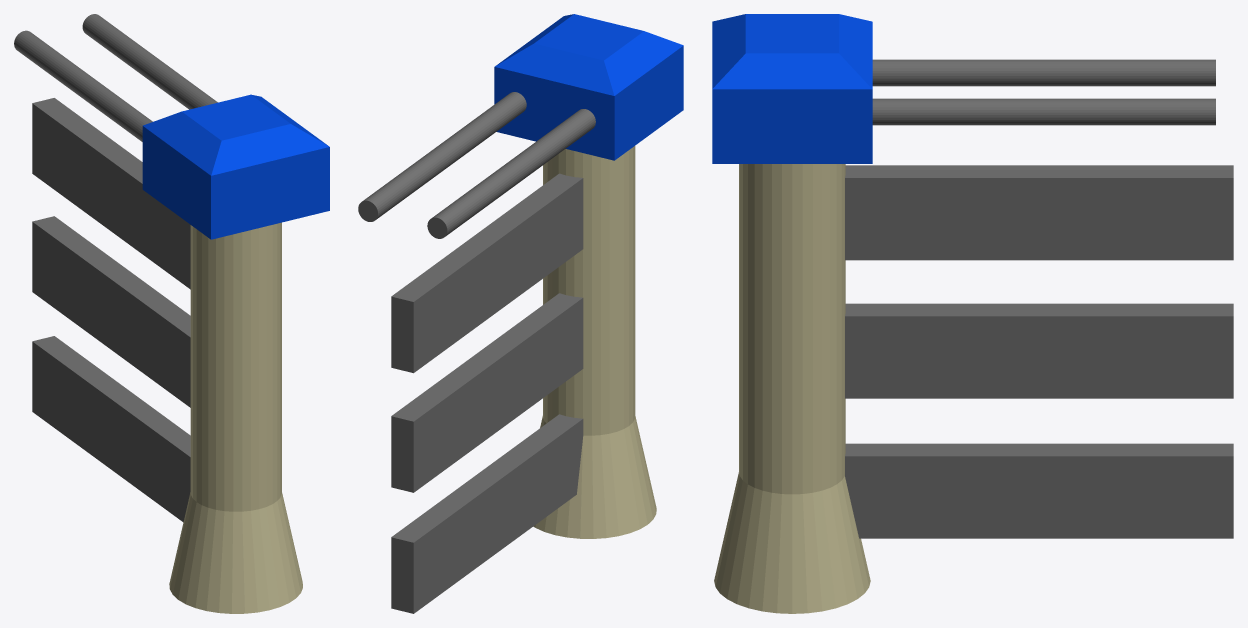
The model's file is Torres 3 Barrera.fbx.
The picture shows the model from 3 angles, left to right: view 1: azimuth 30°, elevation 25°; view 2: azimuth 150°, elevation 25°; view 3: azimuth 270°, elevation 25°; orthographic projection. The views are drawn at different scales.
Parts seen in each view (by area): view 1: Cylinder.001, Cube, Cube.010, Cube.011, Cube.009, Cylinder.006, Cylinder.015, Cylinder.013, Cylinder.016, Cylinder.012, Cylinder.014, Cylinder.010; view 2: Cube, Cylinder.001, Cube.009, Cube.010, Cube.011, Cylinder.006, Cylinder.013, Cylinder.016, Cylinder.015, Cylinder.012, Cylinder.010, Cylinder.014; view 3: Cube.009, Cube.010, Cube.011, Cylinder.001, Cube, Cylinder.006, Cylinder.012, Cylinder.015, Cylinder.016, Cylinder.013, Cylinder.010, Cylinder.014.
Part boxes in pixels (x1,y1,x2,y2): Cylinder.001: [190, 222, 281, 511]; Cube: [142, 94, 329, 239]; Cube.010: [32, 216, 190, 407]; Cube.011: [32, 336, 190, 522]; Cube.009: [32, 98, 190, 289]; Cylinder.006: [169, 492, 302, 613]; Cylinder.015: [64, 67, 130, 123]; Cylinder.013: [82, 14, 148, 70]; Cylinder.016: [14, 30, 79, 87]; Cylinder.012: [133, 51, 198, 107]; Cylinder.014: [115, 105, 152, 141]; Cylinder.010: [184, 88, 217, 109]; Cube: [494, 14, 683, 160]; Cylinder.001: [543, 146, 635, 435]; Cube.009: [391, 173, 583, 373]; Cube.010: [391, 293, 583, 492]; Cube.011: [391, 414, 583, 613]; Cylinder.006: [533, 416, 656, 538]; Cylinder.013: [358, 163, 429, 221]; Cylinder.016: [427, 180, 498, 238]; Cylinder.015: [483, 142, 550, 198]; Cylinder.012: [414, 125, 480, 181]; Cylinder.010: [465, 92, 526, 143]; Cylinder.014: [535, 109, 595, 161]; Cube.009: [845, 165, 1233, 260]; Cube.010: [845, 303, 1233, 398]; Cube.011: [845, 443, 1233, 538]; Cylinder.001: [739, 164, 845, 494]; Cube: [712, 14, 872, 163]; Cylinder.006: [714, 472, 870, 613]; Cylinder.012: [978, 98, 1097, 125]; Cylinder.015: [978, 59, 1097, 86]; Cylinder.016: [1095, 59, 1215, 86]; Cylinder.013: [1095, 98, 1215, 125]; Cylinder.010: [872, 98, 978, 125]; Cylinder.014: [872, 59, 978, 86].
Bounding box in the file's own units: 12 × 45.19 × 39.04.
